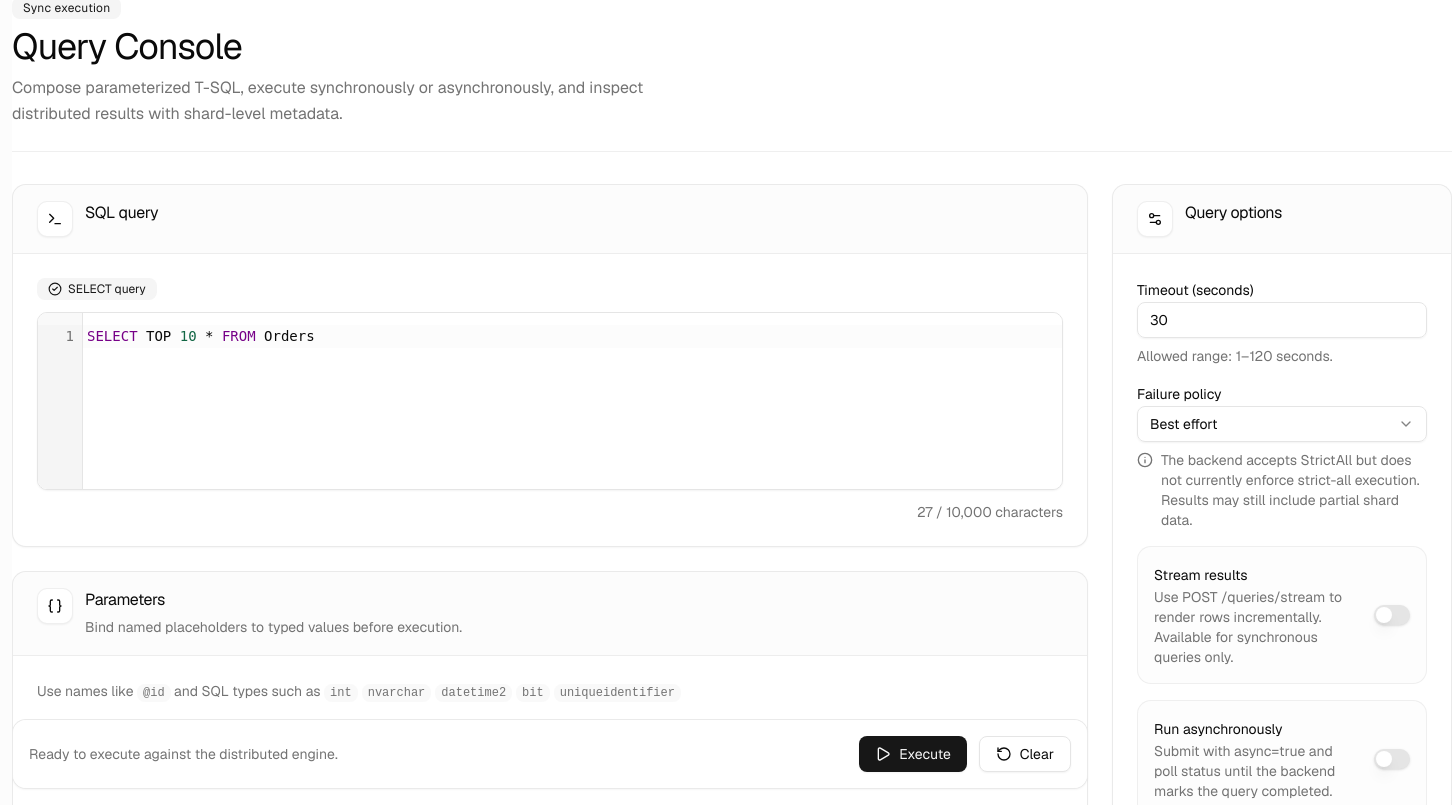
it: QueryConsolePage › renders query results in an accessible table
The width and height of the screenshot is (1452, 805).
Click the button "Execute" at (913, 754), box [859,736,967,772]
(page scrolled)
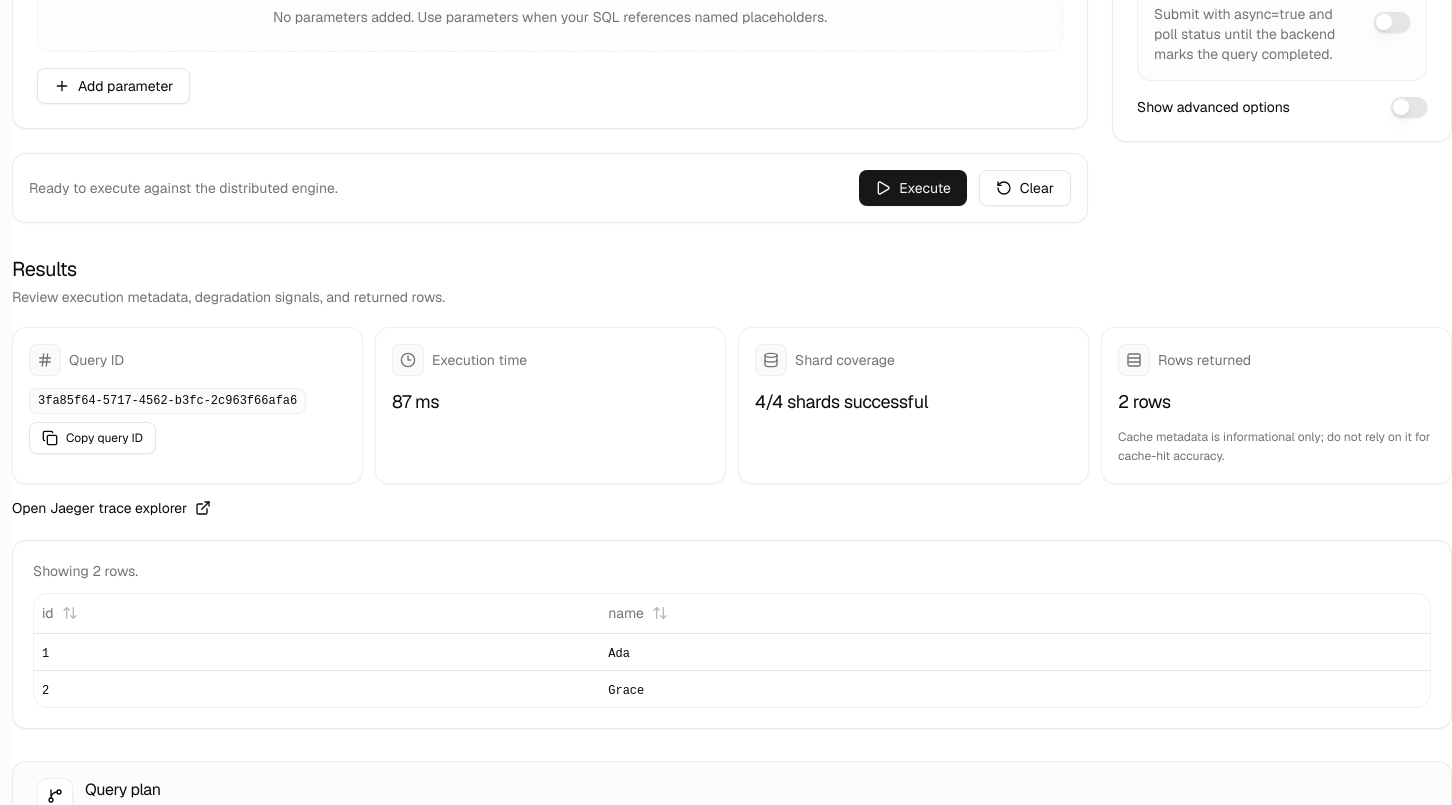
Expected: the column heading "id" is shown, [34,594,600,634]
Expected: the column heading "name" is shown, [600,594,1430,634]
Expected: the button with aria-label "Sort by id" is shown, [42,603,592,623]
